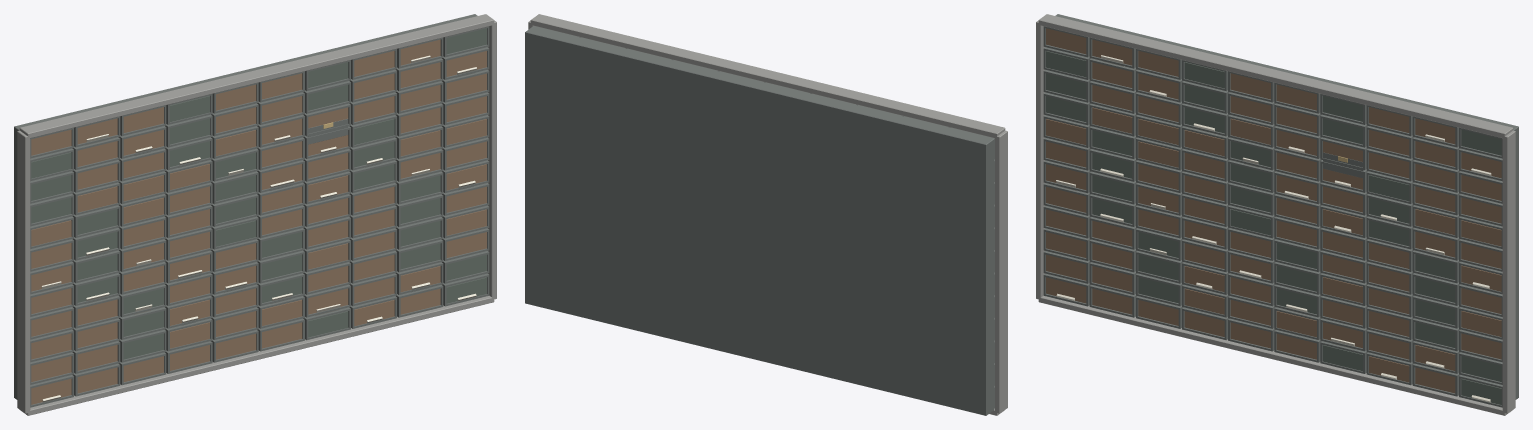
File: mailbox_wall_01.glb
The picture shows the model from 3 angles, left to right: view 1: azimuth 30°, elevation 25°; view 2: azimuth 150°, elevation 25°; view 3: azimuth 330°, elevation 25°; orthographic projection.
Parts seen in each view (by area): view 1: mailbox_wall_01; view 2: mailbox_wall_01; view 3: mailbox_wall_01.
Part boxes in pixels (<box>): mailbox_wall_01: <box>14,14,496,415</box>; mailbox_wall_01: <box>525,14,1007,415</box>; mailbox_wall_01: <box>1036,14,1518,415</box>.
Size of the model in its own units: 3.27 by 1.87 by 0.2.
